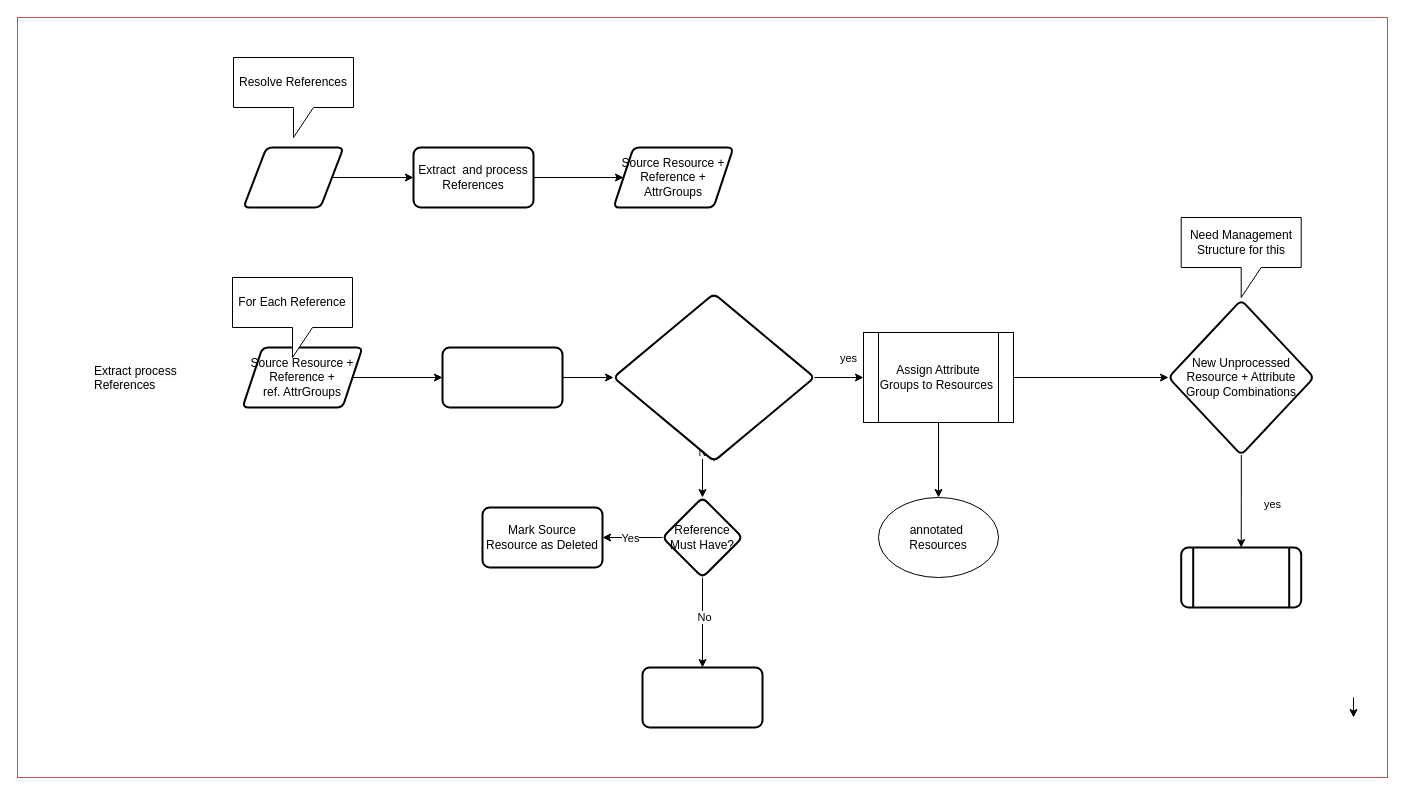
The diagram is 1405 pixels wide and 795 high, and some of its shapes have lost their labels. The shapes that lost their labels are listed below. From the top down, each one's box as (x1, y1, x2, y2) in pixels, then its label:
(242, 146, 344, 208): Resource
(441, 346, 563, 408): Load Resources (including Filter Match from all AttrGroups)
(612, 292, 815, 462): At least One ref. Attribute Group Must Have Conditions Match?
(1180, 546, 1302, 608): add to new References to be resolved
(641, 666, 763, 728): Replace Reference with Data Absent Reason in Source Resource
